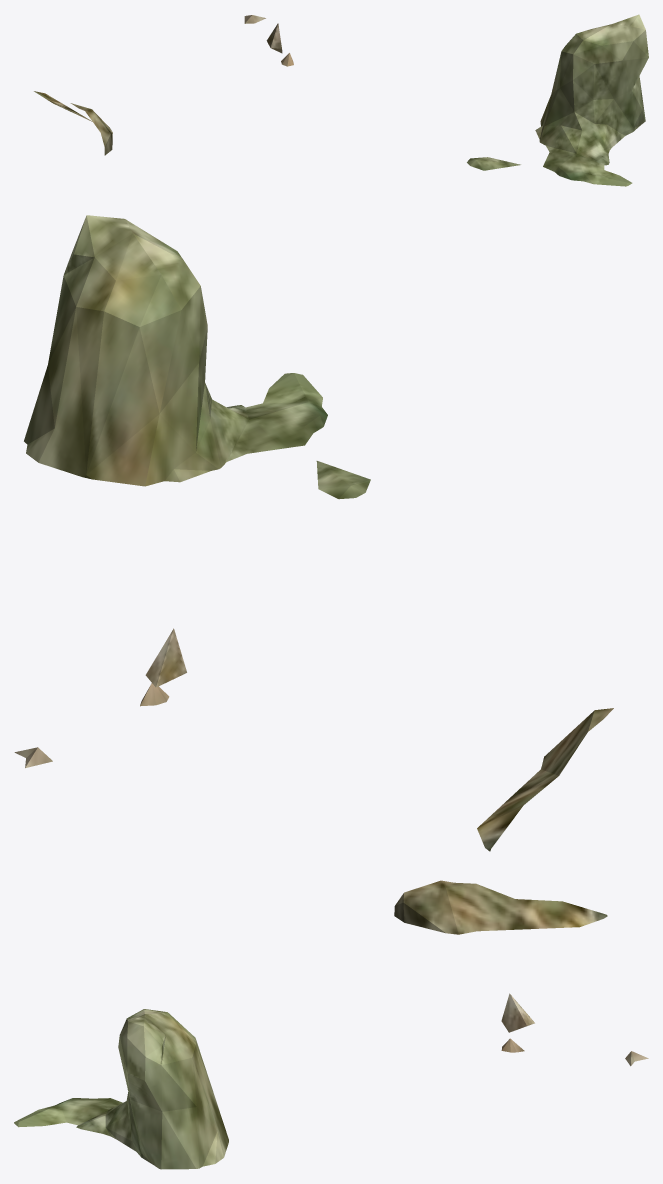
3 views of the same model, one above another, from view 1: azimuth 30°, elevation 25°; view 2: azimuth 150°, elevation 25°; view 3: azimuth 270°, elevation 25° (orthographic). The views are drawn at different scales.
Size of the model in its own units: 2.67 by 0.6645 by 2.83.
1 material, 1 textured.
